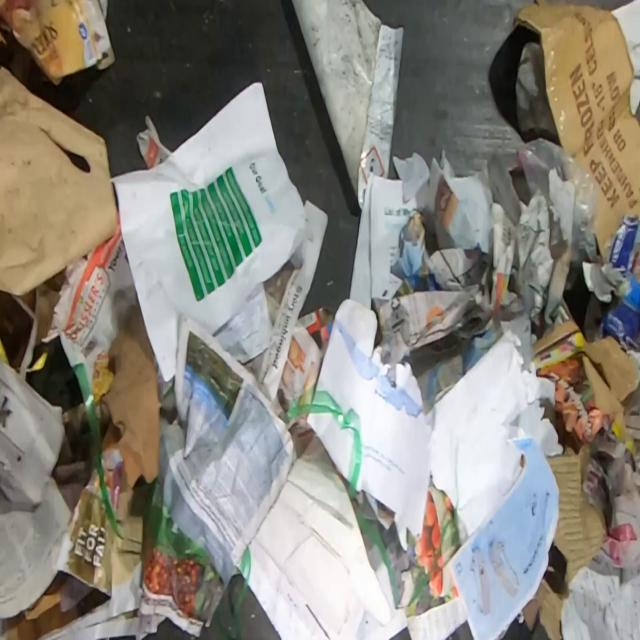cardboard: (513, 0, 640, 259), (522, 444, 608, 639), (533, 318, 640, 444), (0, 0, 117, 87), (0, 573, 81, 639), (298, 305, 335, 355)
soft_plastic: (518, 137, 604, 292), (278, 384, 362, 500), (72, 364, 124, 540), (356, 508, 400, 608), (214, 544, 252, 640)
